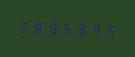eight: (31, 18, 44, 36)
five: (59, 19, 72, 37), (101, 21, 114, 38)
four: (87, 20, 100, 38)
nine: (45, 19, 58, 36), (73, 20, 86, 37)
two: (17, 18, 30, 35)
